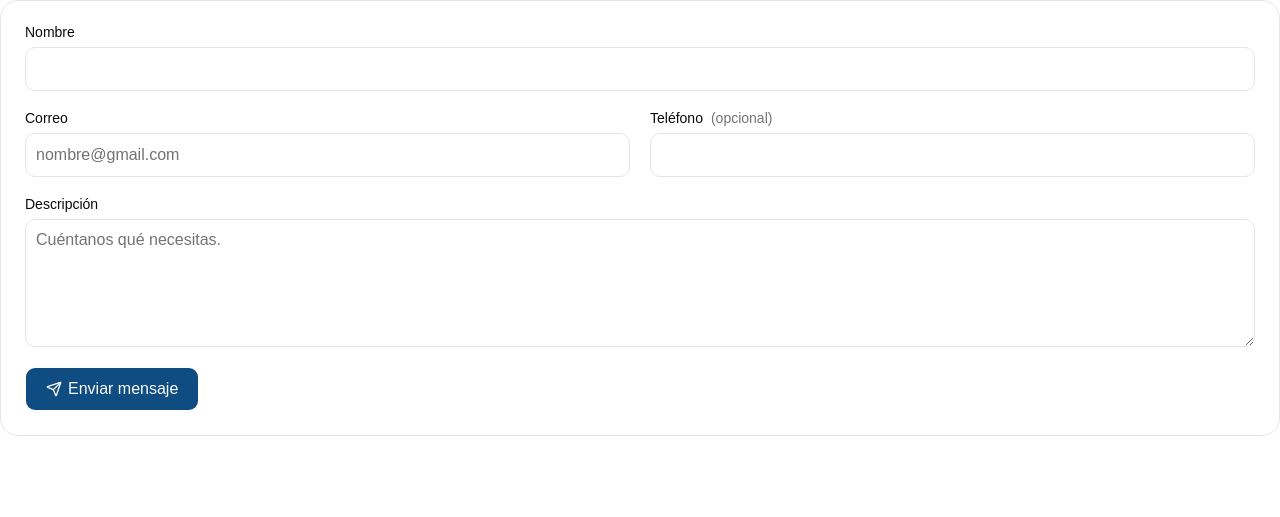
Test: ContactForm › si el envío falla muestra una alerta
Type "Ana" into the field labelled "Nombre" at {"x": 640, "y": 69}, box [25,47,1255,91]
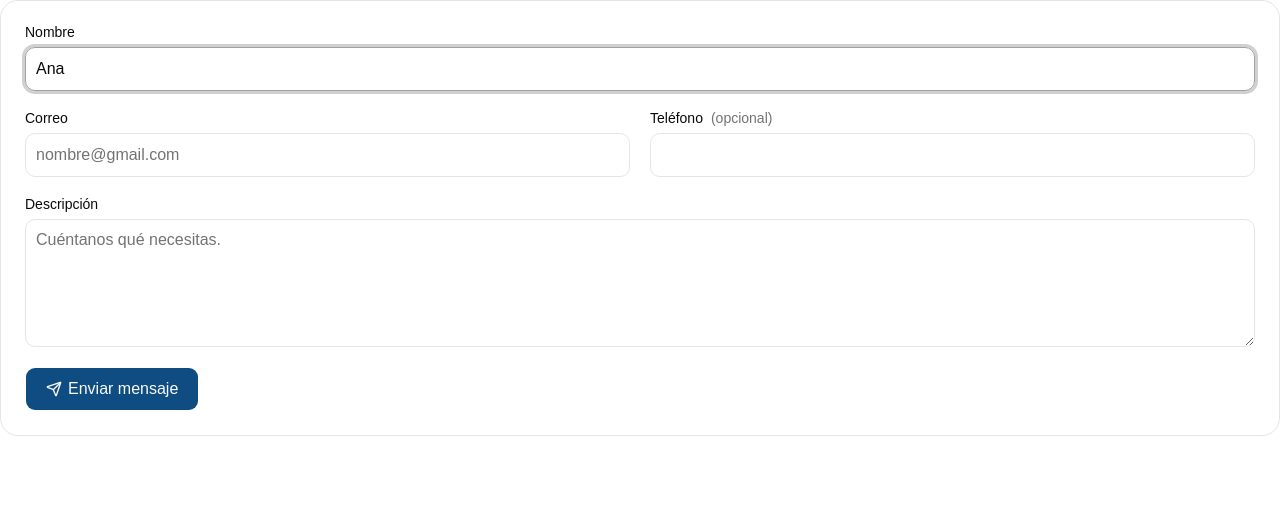
Type "ana@gmail.com" into the field labelled "Correo" at {"x": 328, "y": 155}, box [25,133,630,177]
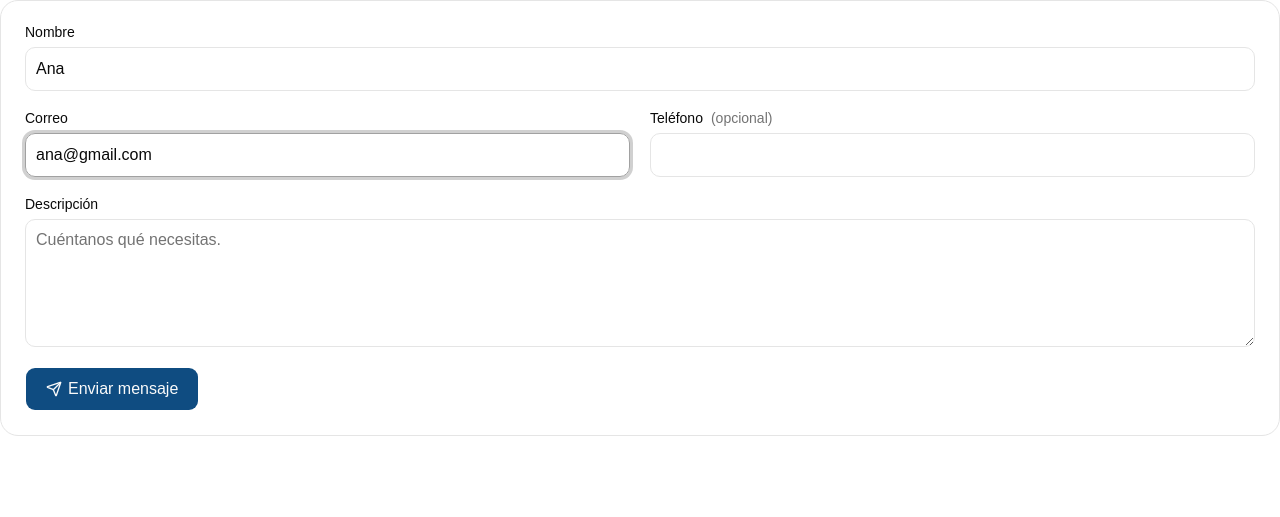
Type "Quiero publicar mi casa." into the text box labelled "Descripción" at {"x": 640, "y": 283}, box [25,219,1255,347]
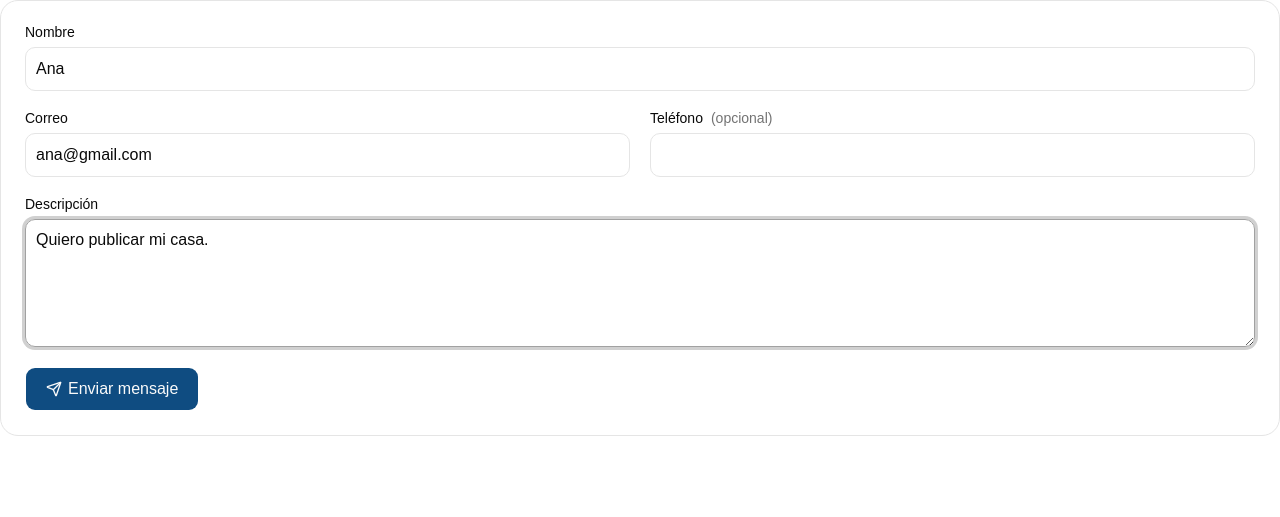
Click the button "Enviar mensaje" at {"x": 112, "y": 389}, box [25,367,199,411]
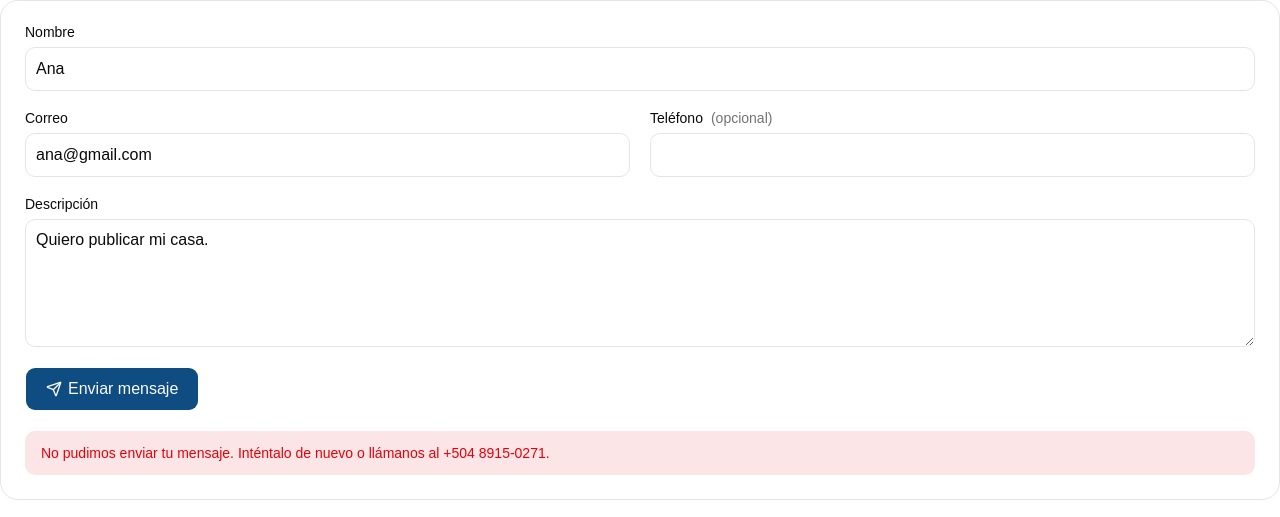
Expected: the text "No pudimos enviar tu mensaje. Inténtalo de nuevo o llámanos al +504 8915-0271." is shown, [25,431,1255,475]
